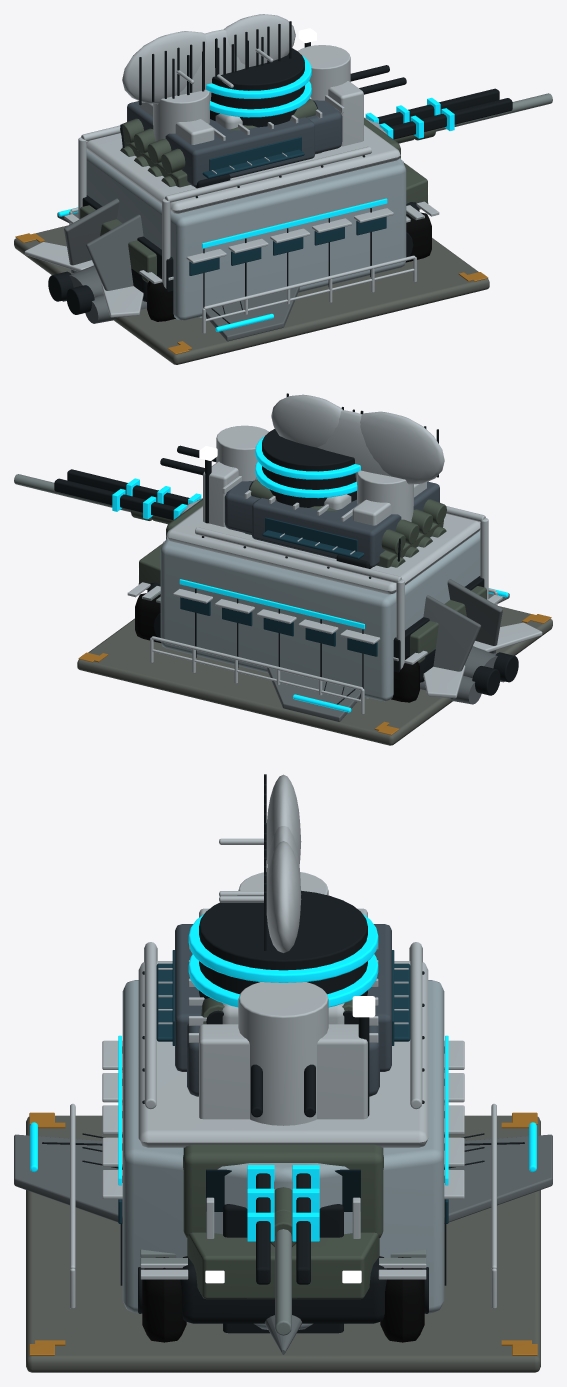
File: equipment-library.glb
3 views of the same model, one above another, from view 1: azimuth 30°, elevation 25°; view 2: azimuth 150°, elevation 25°; view 3: azimuth 270°, elevation 25° (orthographic). The views are drawn at different scales.
Parts seen in each view (by area): view 1: 斜面复合建筑.007, 基础平台.007, 穹顶装甲.007, 生活保障舱, 相控阵雷达, 密封反应堆.001, 垂直尾翼, 相控阵雷达.003, 后掠翼, 矿物处理罐.002, 履带.010, 矿物处理罐 (+27 smaller); view 2: 斜面复合建筑.007, 基础平台.007, 穹顶装甲.007, 生活保障舱, 相控阵雷达, 密封反应堆.001, 相控阵雷达.003, 垂直尾翼.001, 后掠翼.001, 矿物处理罐.002, 矿物处理罐, 履带.011 (+27 smaller); view 3: 基础平台.007, 斜面复合建筑.007, 穹顶装甲.007, 密封反应堆.001, 矿物处理罐.002, 散热塔.003, 楔形装甲车体.010, 装甲驾驶舱.003, 车体底盘.010, 后掠翼, 后掠翼.001, 生活保障舱 (+20 smaller).
Part boxes in pixels (x1,y1,x2,y2): 斜面复合建筑.007: (86,117,406,320); 基础平台.007: (14,225,489,364); 穹顶装甲.007: (86,125,400,213); 生活保障舱: (127,101,314,186); 相控阵雷达: (122,31,206,104); 密封反应堆.001: (210,48,304,127); 垂直尾翼: (85,214,143,290); 相控阵雷达.003: (224,14,295,66); 后掠翼: (206,287,299,341); 矿物处理罐.002: (298,45,350,100); 履带.010: (147,212,431,321); 矿物处理罐: (153,90,209,141); 斜面复合建筑.007: (160,498,480,700); 基础平台.007: (77,606,552,745); 穹顶装甲.007: (166,506,480,594); 生活保障舱: (252,481,439,567); 相控阵雷达: (360,411,444,484); 密封反应堆.001: (262,429,356,507); 相控阵雷达.003: (271,394,342,447); 垂直尾翼.001: (423,595,480,671); 后掠翼.001: (267,667,360,721); 矿物处理罐.002: (216,425,268,481); 矿物处理罐: (357,470,413,521); 履带.011: (135,593,419,702); 基础平台.007: (26,1115,540,1372); 斜面复合建筑.007: (122,980,444,1329); 穹顶装甲.007: (138,961,428,1147); 密封反应堆.001: (199,890,367,998); 矿物处理罐.002: (238,982,328,1125); 散热塔.003: (199,1024,367,1119); 楔形装甲车体.010: (187,1232,379,1299); 装甲驾驶舱.003: (183,1144,383,1238); 车体底盘.010: (180,1256,386,1323); 后掠翼: (14,1134,122,1223); 后掠翼.001: (444,1134,552,1223); 生活保障舱: (175,924,391,1071).
Size of the model in its own units: 11.08 by 5.59 by 6.7.
